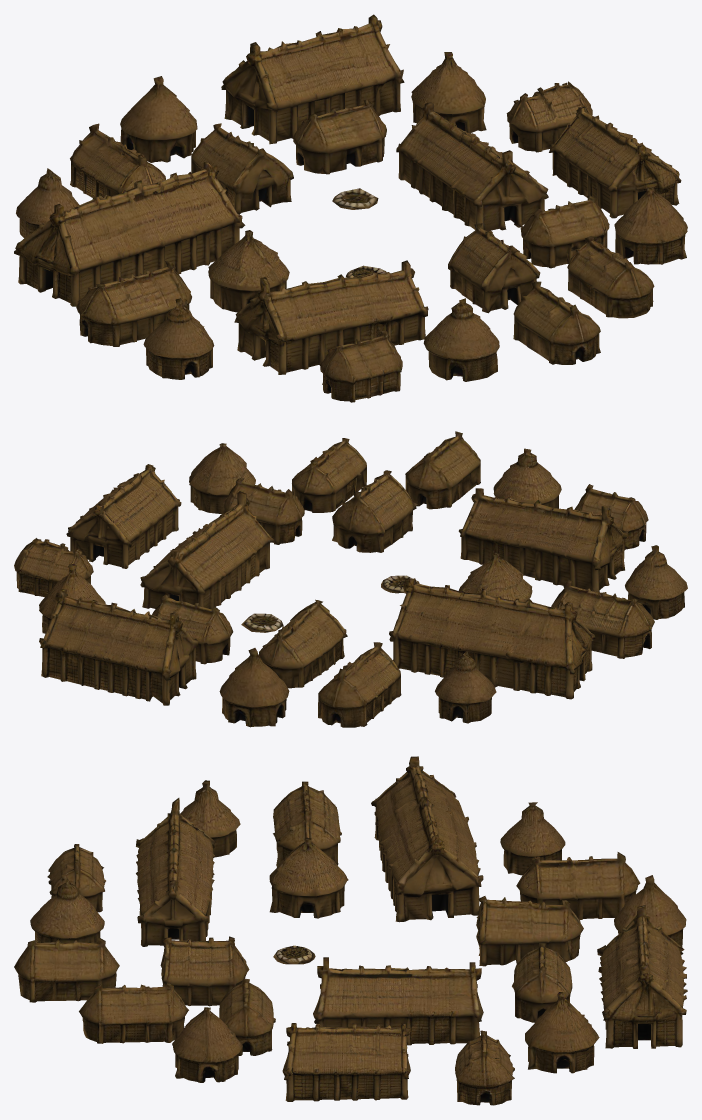
File: Prehistoric Town (Western).fbx
The picture shows the model from 3 angles, top to bottom: view 1: azimuth 30°, elevation 25°; view 2: azimuth 150°, elevation 25°; view 3: azimuth 270°, elevation 25°; orthographic projection. The views are drawn at different scales.
Visible parts, largest first — view 1: tripo_node_83ab80f1; view 2: tripo_node_83ab80f1; view 3: tripo_node_83ab80f1.
Part boxes in pixels (bbox=[...]): tripo_node_83ab80f1: bbox=[14, 14, 687, 402]; tripo_node_83ab80f1: bbox=[14, 431, 687, 727]; tripo_node_83ab80f1: bbox=[14, 756, 687, 1105].
Size of the model in its own units: 0.9963 by 0.1359 by 1.
